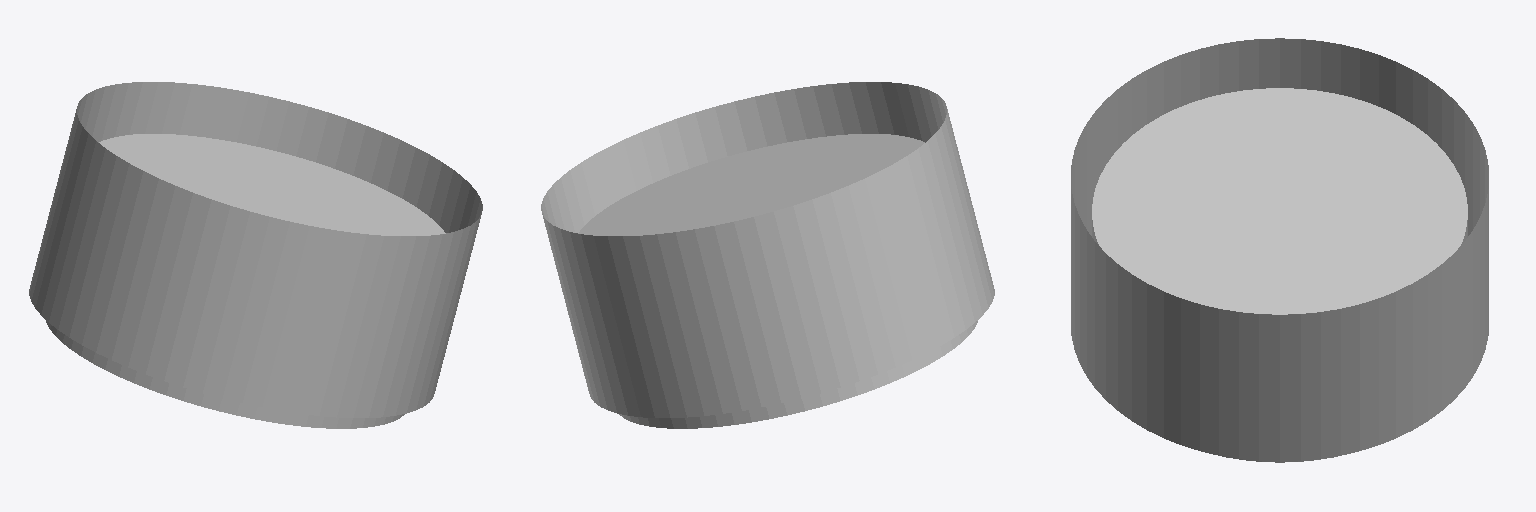
File: drumsetV4_SmaolDrumBody_Keyframe.obj
The picture shows the model from 3 angles: view 1: azimuth 30°, elevation 25°; view 2: azimuth 150°, elevation 25°; view 3: azimuth 270°, elevation 25°; orthographic projection.
Parts seen in each view (by area): view 1: drumsetV4_SmaolDrumBody_Cylinder; view 2: drumsetV4_SmaolDrumBody_Cylinder; view 3: drumsetV4_SmaolDrumBody_Cylinder.
Boxes of the visible parts, <box> form: drumsetV4_SmaolDrumBody_Cylinder: <box>29,82,482,428</box>; drumsetV4_SmaolDrumBody_Cylinder: <box>541,82,994,428</box>; drumsetV4_SmaolDrumBody_Cylinder: <box>1071,38,1488,462</box>.
Bounding box in the file's own units: 1.16 × 0.8067 × 1.06.